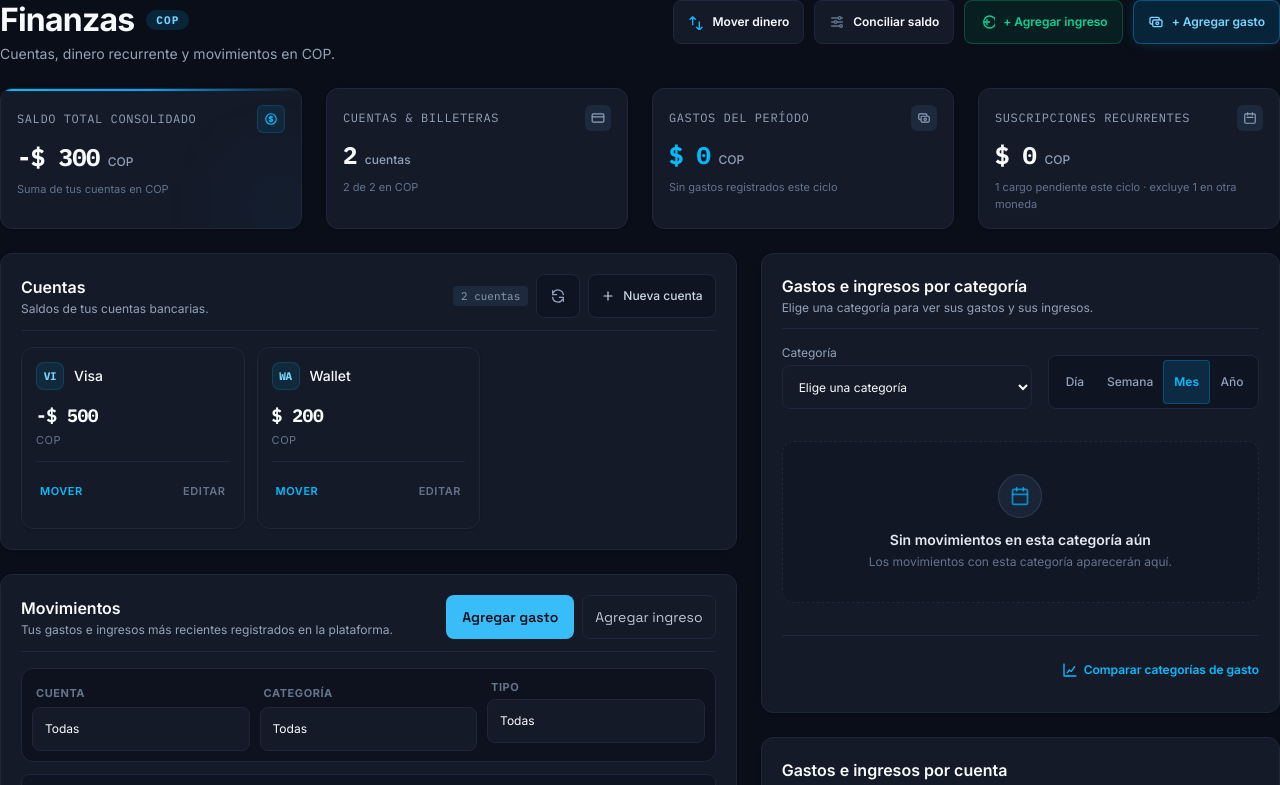
Test: finance T4 body › opens the transfer modal from the header toolbar without a preselected origin
Click the button "Mover dinero". click: point(739, 22)
box: [674,0,804,44]
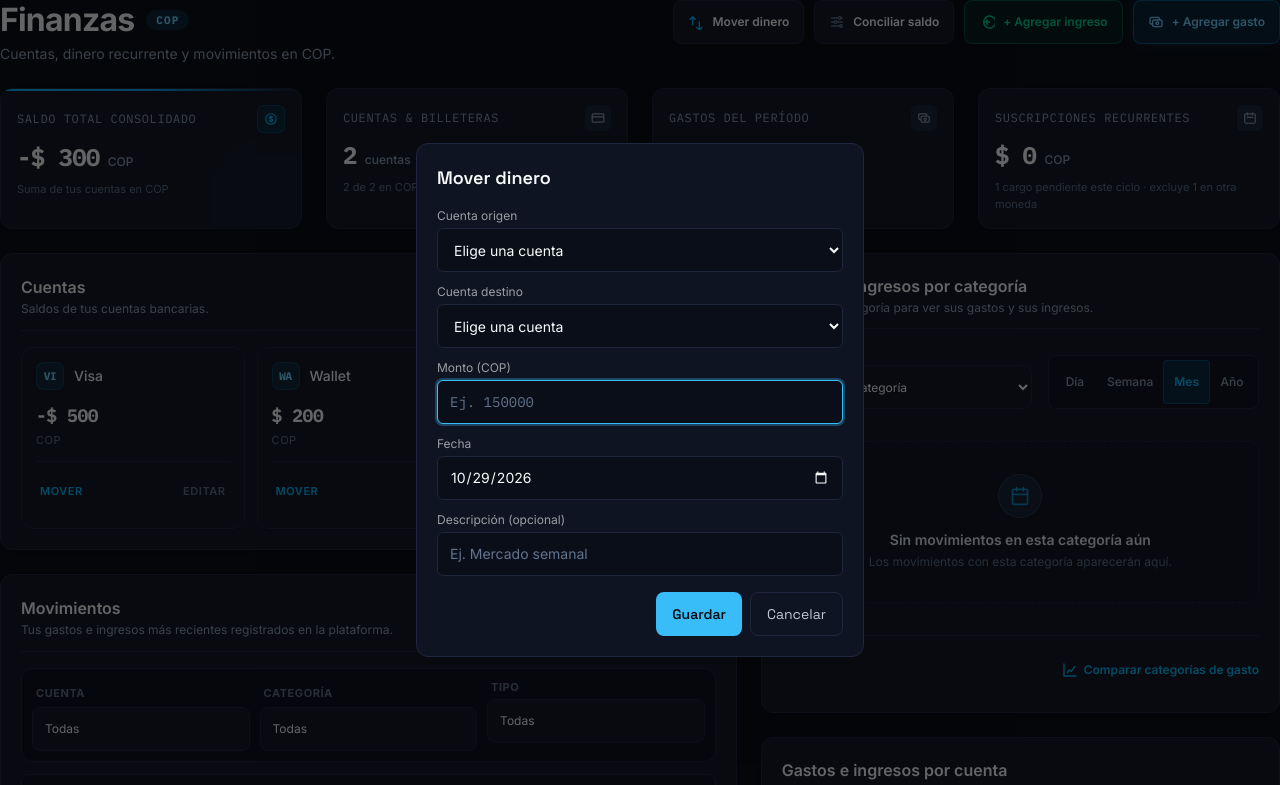
Result: the heading "Mover dinero" is shown at [437,166,551,189]
Result: the dropdown labelled "Cuenta origen" shows "Elige una cuenta" at [437,228,843,272]
